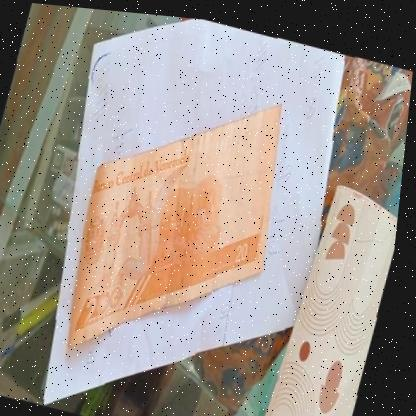twenty-back-vef: (54, 54, 311, 387)
